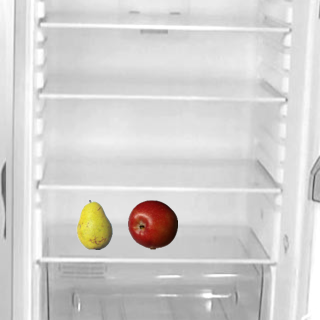Apple Braeburn: (127, 199, 177, 249)
Pear Monster: (69, 199, 119, 249)
